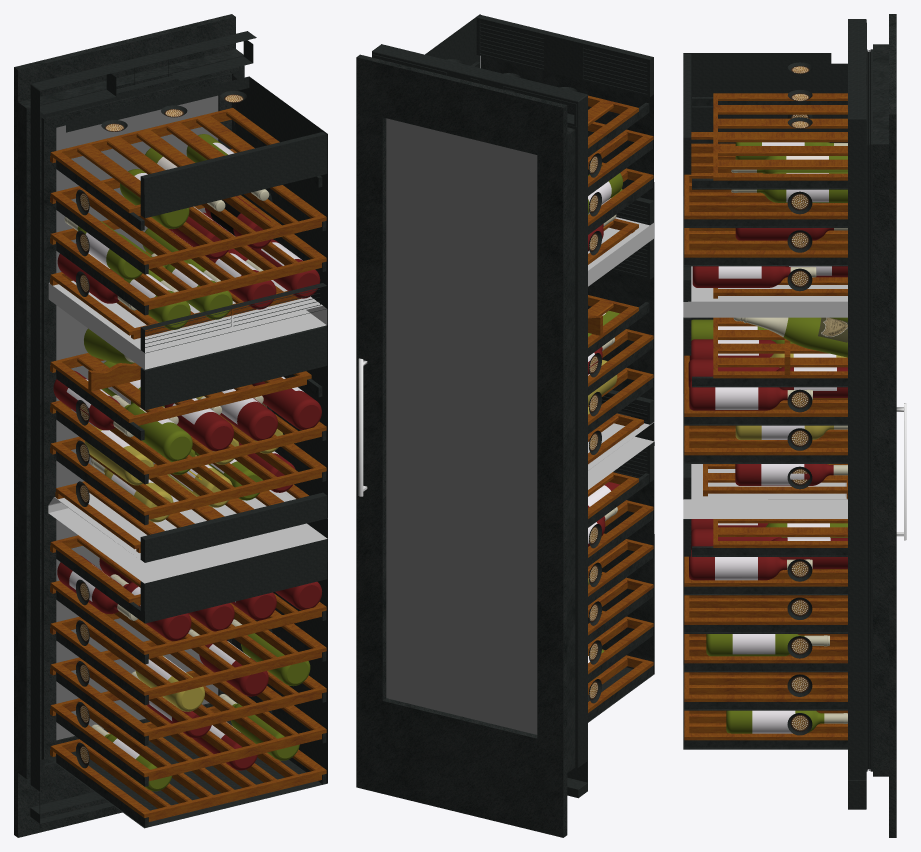
Rendered from MieleOptymim.fbx.
3 views of the same model, side by side, from view 1: azimuth 30°, elevation 25°; view 2: azimuth 150°, elevation 25°; view 3: azimuth 270°, elevation 25° (orthographic). The views are drawn at different scales.
Parts seen in each view (by area): view 1: Shelfs, Back, Door, Bottle.050, Mesh68_Group11_Model.003; view 2: Door.001, Door, Back, Shelfs, Mesh68_Group11_Model.003, Bottle.050, Mesh429_Group194_Group193_Model.001; view 3: Shelfs, Back, Bottle.050, Door, Mesh68_Group11_Model.003, Mesh429_Group194_Group193_Model.001.
Boxes of the visible parts, x1,y1,x2,y2 form: Shelfs: [50, 108, 326, 827]; Back: [30, 31, 327, 828]; Door: [14, 14, 244, 837]; Bottle.050: [53, 134, 322, 791]; Mesh68_Group11_Model.003: [48, 280, 327, 583]; Door.001: [386, 118, 537, 734]; Door: [356, 54, 575, 837]; Back: [372, 14, 654, 798]; Shelfs: [471, 61, 653, 721]; Mesh68_Group11_Model.003: [588, 217, 654, 489]; Bottle.050: [588, 165, 622, 682]; Mesh429_Group194_Group193_Model.001: [358, 358, 367, 496]; Shelfs: [684, 93, 847, 749]; Back: [683, 19, 872, 809]; Bottle.050: [688, 142, 847, 733]; Door: [873, 14, 896, 837]; Mesh68_Group11_Model.003: [683, 266, 847, 518]; Mesh429_Group194_Group193_Model.001: [896, 403, 906, 540].
Bounding box in the file's own units: 59.48 × 200 × 55.97.
